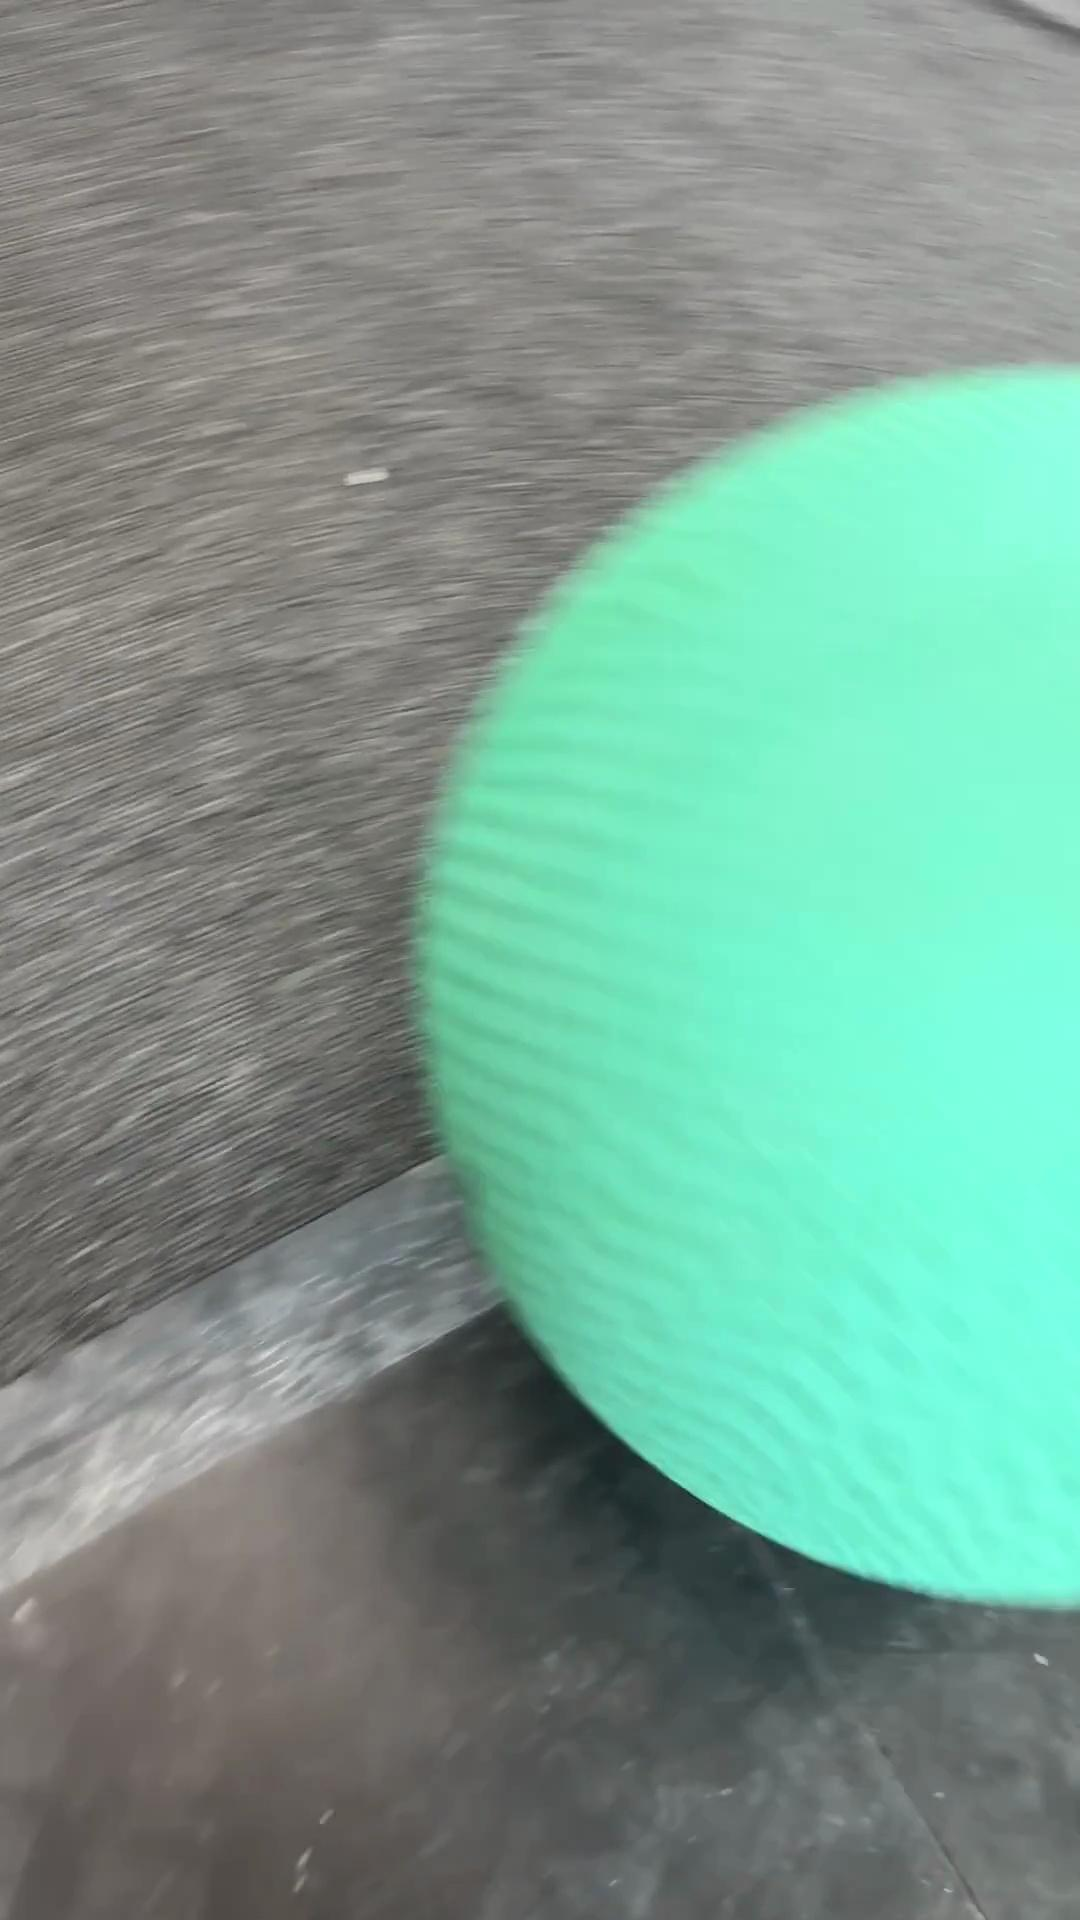ALGAE: (409, 361, 1077, 1610)
